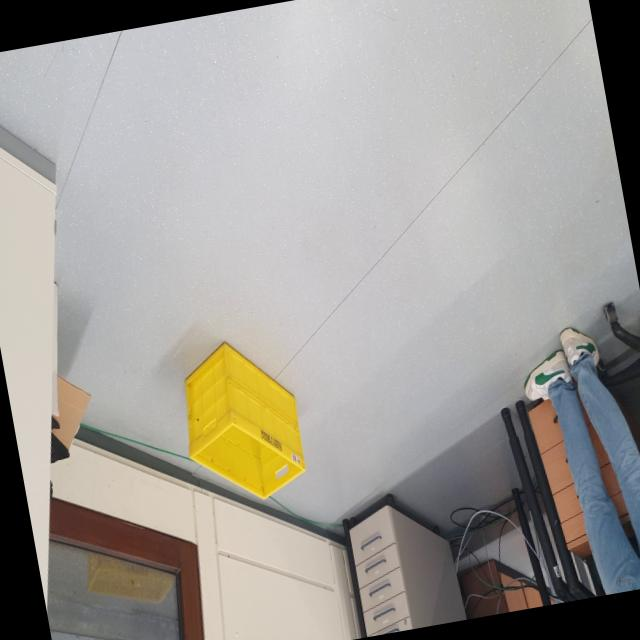box: (158, 321, 318, 528)
